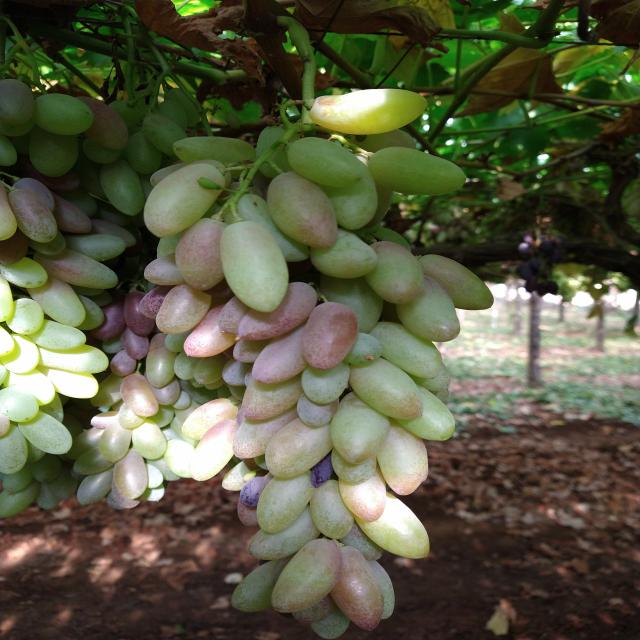grapes: (221, 219, 289, 314), (224, 188, 310, 262), (146, 163, 227, 239), (220, 282, 318, 342), (351, 486, 431, 558), (268, 170, 338, 251), (272, 537, 344, 613), (310, 89, 428, 135), (392, 272, 462, 343), (266, 411, 338, 480), (366, 147, 466, 196), (348, 357, 424, 419), (412, 254, 494, 311), (332, 545, 386, 631), (394, 274, 462, 342), (367, 322, 445, 380), (374, 416, 430, 496), (230, 400, 302, 459), (333, 390, 392, 462), (284, 137, 370, 186), (300, 302, 360, 372), (361, 242, 425, 306), (389, 384, 458, 442), (259, 466, 315, 534), (248, 505, 316, 561), (32, 247, 120, 290), (174, 218, 224, 293), (308, 227, 379, 278), (318, 280, 384, 334), (188, 414, 240, 482), (68, 95, 129, 152), (230, 557, 291, 613), (252, 324, 305, 386), (154, 283, 214, 335), (185, 302, 240, 358), (27, 278, 89, 327), (308, 478, 356, 540), (338, 467, 388, 523), (26, 125, 78, 178), (354, 559, 397, 621), (330, 180, 378, 233), (10, 188, 57, 242), (36, 92, 95, 135), (183, 398, 239, 443), (243, 376, 300, 420), (17, 411, 74, 455), (100, 163, 146, 215), (172, 136, 258, 163), (38, 344, 113, 374), (142, 112, 191, 155), (2, 368, 56, 406), (2, 77, 35, 138), (29, 318, 87, 352), (302, 364, 350, 405), (114, 448, 150, 500), (347, 130, 418, 155), (0, 480, 41, 523), (45, 366, 98, 399), (52, 194, 95, 234), (0, 332, 41, 373), (120, 373, 158, 417), (352, 226, 411, 254), (130, 418, 168, 461), (68, 234, 126, 262), (0, 420, 29, 474), (338, 332, 384, 366), (79, 132, 126, 164), (346, 517, 382, 558), (0, 258, 49, 288), (89, 300, 124, 342), (298, 392, 341, 426), (125, 289, 156, 336), (144, 252, 188, 285), (99, 419, 132, 463), (306, 609, 353, 639), (5, 298, 44, 334), (66, 296, 106, 331), (67, 426, 106, 461), (290, 594, 337, 622), (0, 388, 38, 422), (76, 470, 116, 502), (138, 285, 174, 320), (0, 183, 20, 243), (146, 345, 173, 389), (0, 231, 32, 266), (31, 391, 66, 423), (222, 460, 258, 491), (235, 334, 272, 363), (165, 439, 192, 478), (310, 453, 340, 488), (195, 354, 228, 384), (110, 98, 139, 132), (121, 326, 150, 360), (220, 296, 247, 332), (88, 377, 120, 407), (240, 477, 270, 508), (1, 466, 34, 494), (156, 230, 184, 262), (150, 379, 183, 405), (223, 359, 254, 385), (109, 350, 138, 377), (144, 404, 176, 427), (172, 351, 198, 379), (106, 489, 144, 508), (149, 164, 185, 184), (238, 495, 262, 525), (0, 275, 15, 321), (417, 371, 451, 390), (24, 436, 46, 464), (144, 460, 164, 490), (90, 410, 119, 430), (0, 139, 19, 166), (0, 324, 15, 357), (146, 480, 166, 502), (40, 486, 59, 509), (431, 384, 450, 402), (0, 412, 12, 437)
